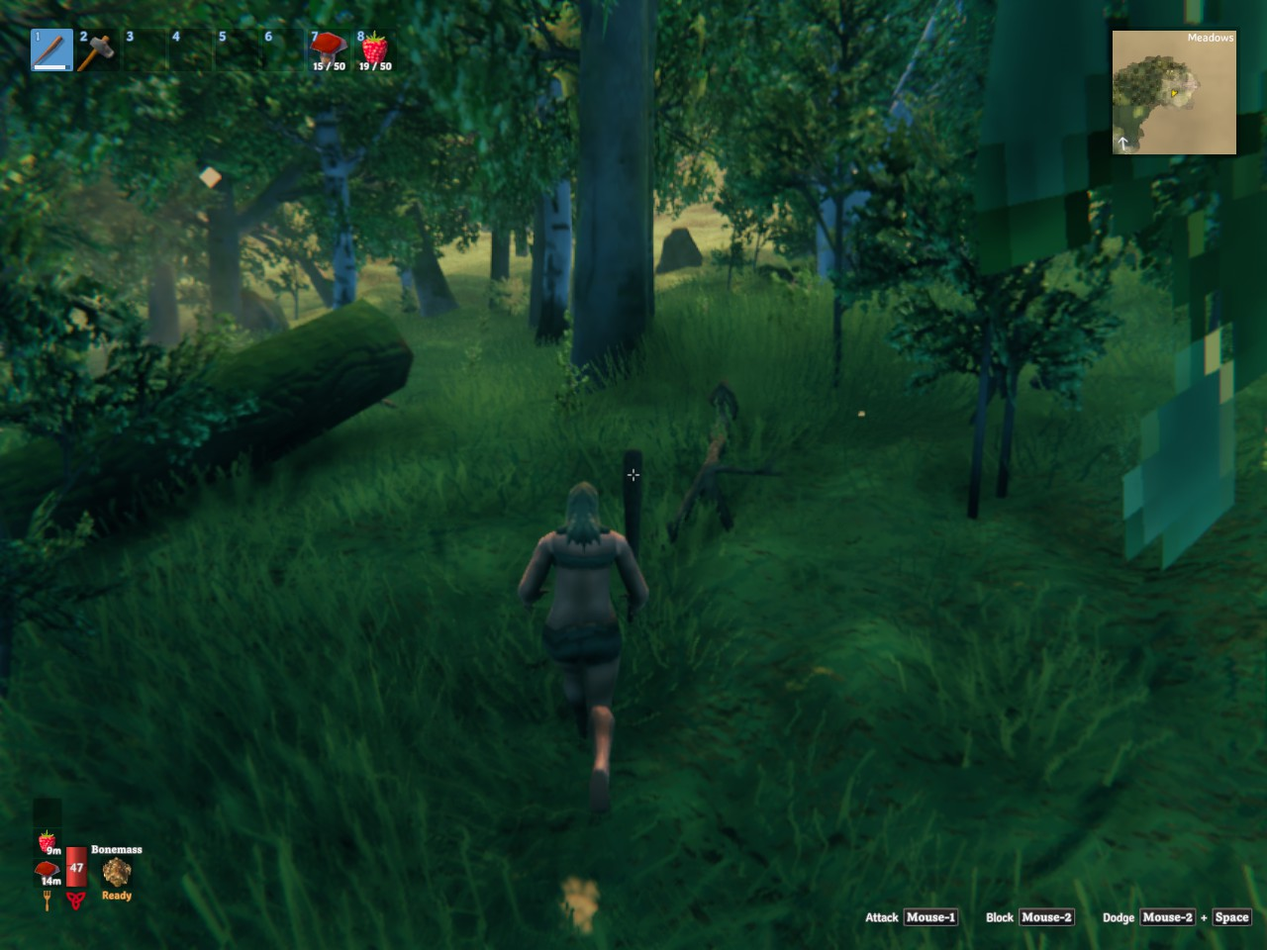Branch: (668, 381, 774, 540)
